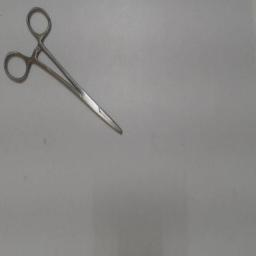Mayo Needle Holder: (2, 3, 136, 145)
